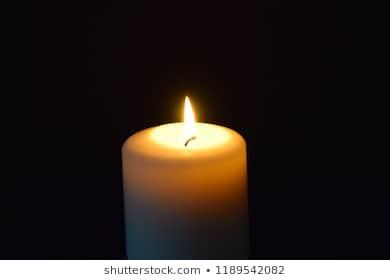fire: (177, 93, 197, 143)
